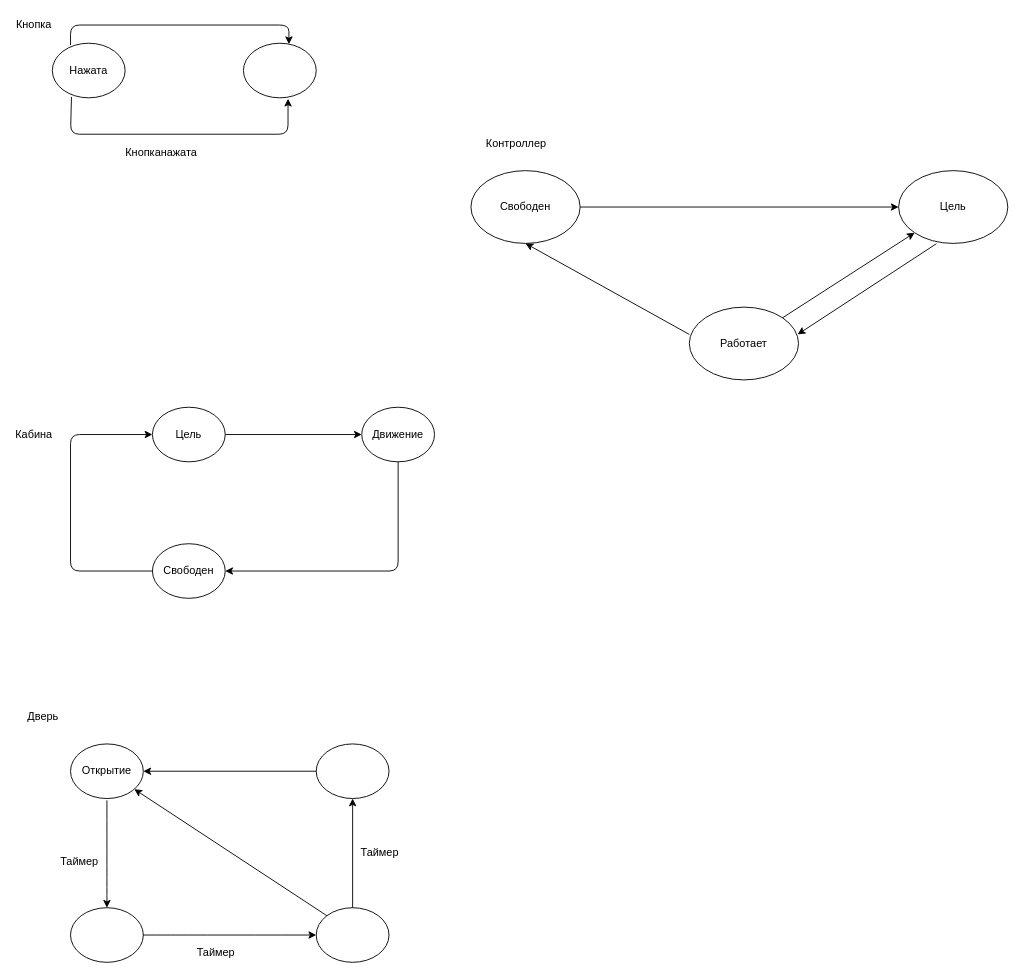
Image size: 1024x978. Some labels were removed from this diagram. Here are the shapes that lost their labels. From the top down, the centre of each, then its label:
At point 279,70: "Не нажата".
At point 352,771: "Закрыто".
At point 106,934: "Открыто".
At point 352,934: "Закрытие".
